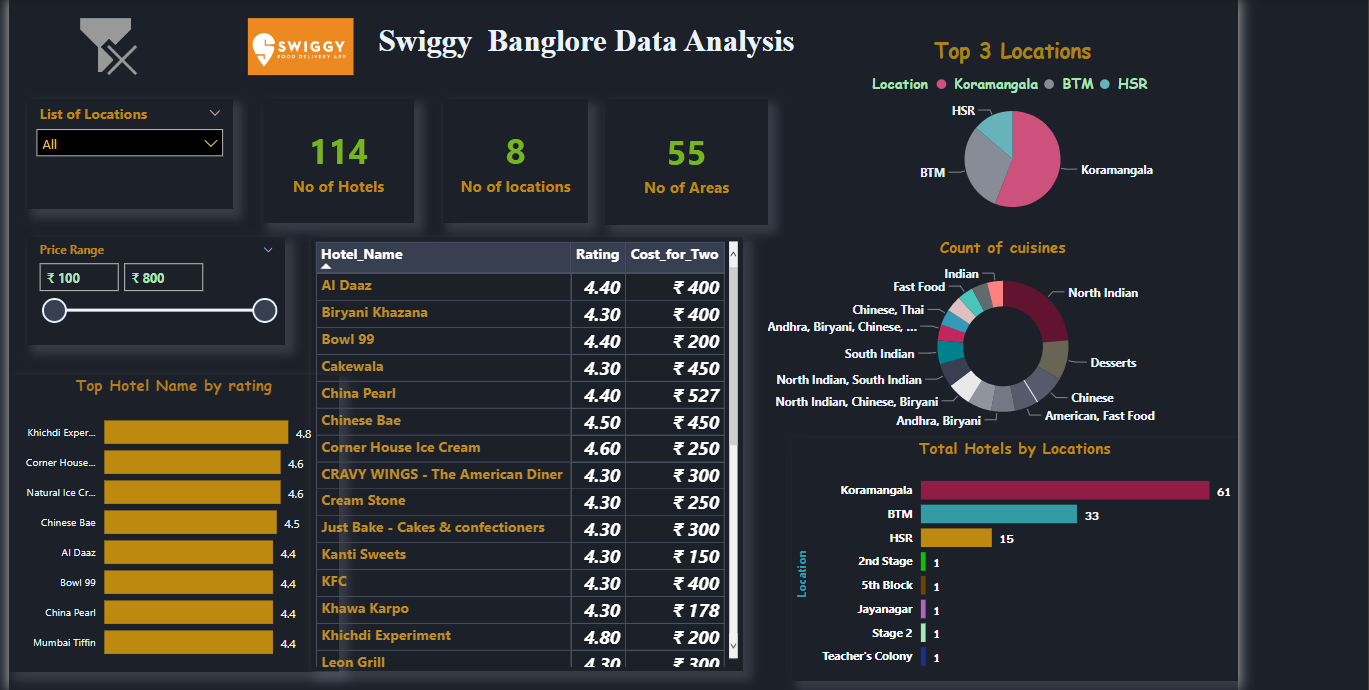

What the dashboard file says about the page in this screenshot:
{"tool":"powerbi","page":{"name":"Page 1","canvas":[1280,720],"ordinal":0},"visuals":[{"type":"card","fields":{"Values":["CountNonNull(Swiggy Bangalore Outlet Details.Hotel_Name)"]},"box":[263.9,104.6,157.7,129.6],"z":0},{"type":"card","fields":{"Values":["Count(Swiggy Bangalore Outlet Details.Location)"]},"box":[451.4,104.6,151.5,129.6],"z":1000},{"type":"card","fields":{"Values":["Count(Swiggy Bangalore Outlet Details.Area)"]},"box":[620,104.6,170.2,131.2],"z":2000},{"type":"slicer","fields":{"Values":["Swiggy Bangalore Outlet Details.Location"]},"box":[18.7,104.6,214,115.6],"z":3000},{"type":"slicer","fields":{"Values":["Swiggy Bangalore Outlet Details.Cost_for_Two"]},"box":[18.7,248.3,268.6,112.5],"z":4000},{"type":"clusteredBarChart","title":"Total Hotels by Locations","fields":{"Category":["Swiggy Bangalore Outlet Details.Location"],"Y":["CountNonNull(Swiggy Bangalore Outlet Details.Hotel_Name)"]},"box":[815.3,457.6,463.9,253],"z":5000},{"type":"barChart","title":"Top Hotel Name by rating","fields":{"Category":["Swiggy Bangalore Outlet Details.Hotel_Name"],"Y":["Sum(Swiggy Bangalore Outlet Details.Rating)"]},"box":[0,392,343.6,309.2],"z":6000},{"type":"pivotTable","fields":{"Rows":["Swiggy Bangalore Outlet Details.Hotel_Name"],"Values":["Sum(Swiggy Bangalore Outlet Details.Rating)","Sum(Swiggy Bangalore Outlet Details.Cost_for_Two)"]},"box":[313.9,248.3,449.8,452.9],"z":7000},{"type":"donutChart","title":"Count of cuisines","fields":{"Y":["CountNonNull(Swiggy Bangalore Outlet Details.Cuisine)"],"Category":["Swiggy Bangalore Outlet Details.Cuisine"]},"box":[790.3,248.3,488.9,206.2],"z":8000},{"type":"image","box":[232,15.8,142,69.4],"z":9000},{"type":"pieChart","title":"Top 3 Locations","fields":{"Series":["Swiggy Bangalore Outlet Details.Location"],"Category":["Swiggy Bangalore Outlet Details.Location"],"Y":["CountNonNull(Swiggy Bangalore Outlet Details.Area)"]},"box":[815.3,39,459.2,196.8],"z":10000},{"type":"textbox","box":[378.8,20.5,483,58.4],"z":11000},{"type":"textbox","box":[251.5,100,12.5,93.7],"z":12000},{"type":"image","box":[28.4,15.8,151.5,69.4],"z":13000}]}

Visuals, with their boxes on the page's 1280x720 design canvas (x1, y1, x2, y2). These are canvas units, not pixel positions in the 1369x690 screenshot, which may show the page scaled, cropped or inside an application window:
card - CountNonNull(Swiggy Bangalore Outlet Details.Hotel_Name): box(264, 105, 422, 234)
card - Count(Swiggy Bangalore Outlet Details.Location): box(451, 105, 603, 234)
card - Count(Swiggy Bangalore Outlet Details.Area): box(620, 105, 790, 236)
slicer - Swiggy Bangalore Outlet Details.Location: box(19, 105, 233, 220)
slicer - Swiggy Bangalore Outlet Details.Cost_for_Two: box(19, 248, 287, 361)
"Total Hotels by Locations" clusteredBarChart: box(815, 458, 1279, 711)
"Top Hotel Name by rating" barChart: box(0, 392, 344, 701)
pivotTable - Swiggy Bangalore Outlet Details.Hotel_Name x Sum(Swiggy Bangalore Outlet Details.Rating): box(314, 248, 764, 701)
"Count of cuisines" donutChart: box(790, 248, 1279, 454)
image: box(232, 16, 374, 85)
"Top 3 Locations" pieChart: box(815, 39, 1274, 236)
textbox: box(379, 20, 862, 79)
textbox: box(252, 100, 264, 194)
image: box(28, 16, 180, 85)
